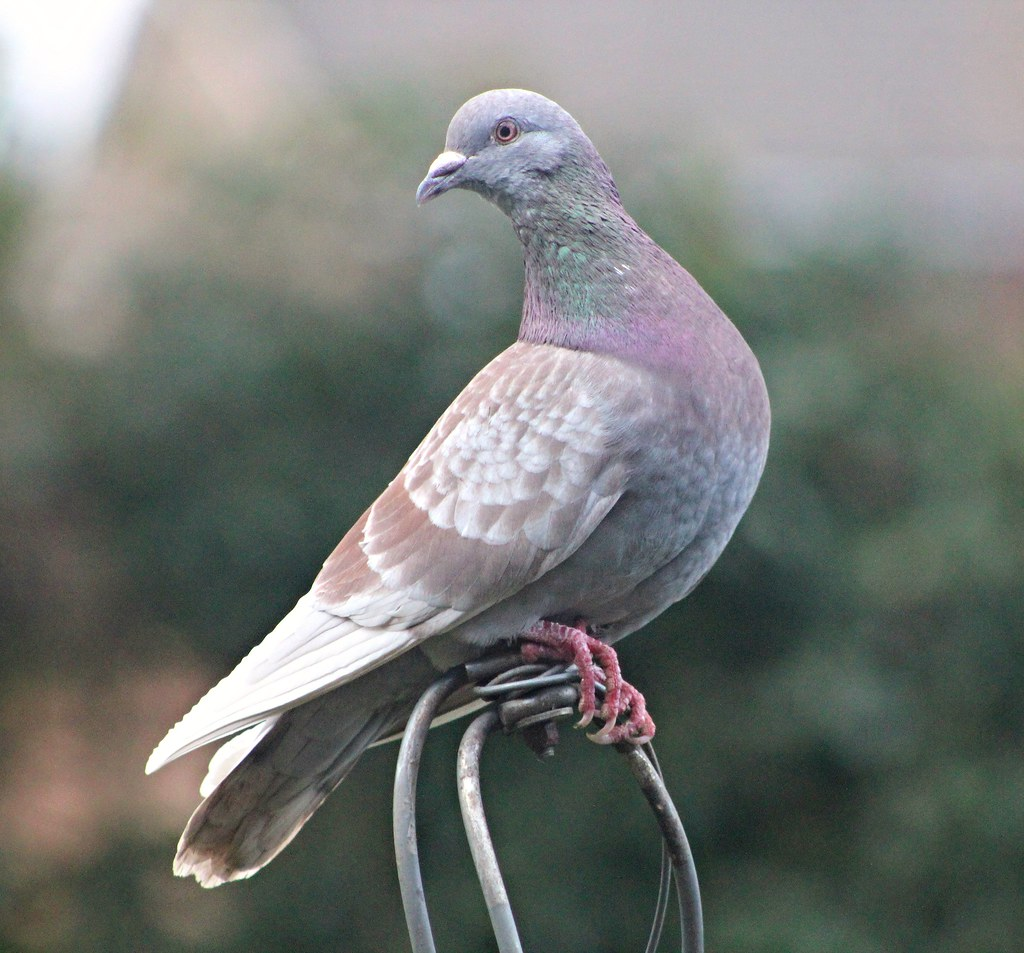pigeon: (141, 85, 788, 907)
